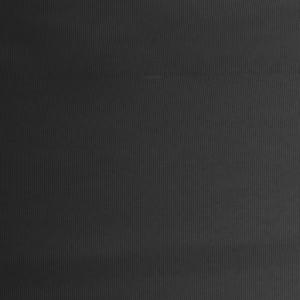Wrinkle: (1, 226, 300, 300), (1, 1, 119, 105)
